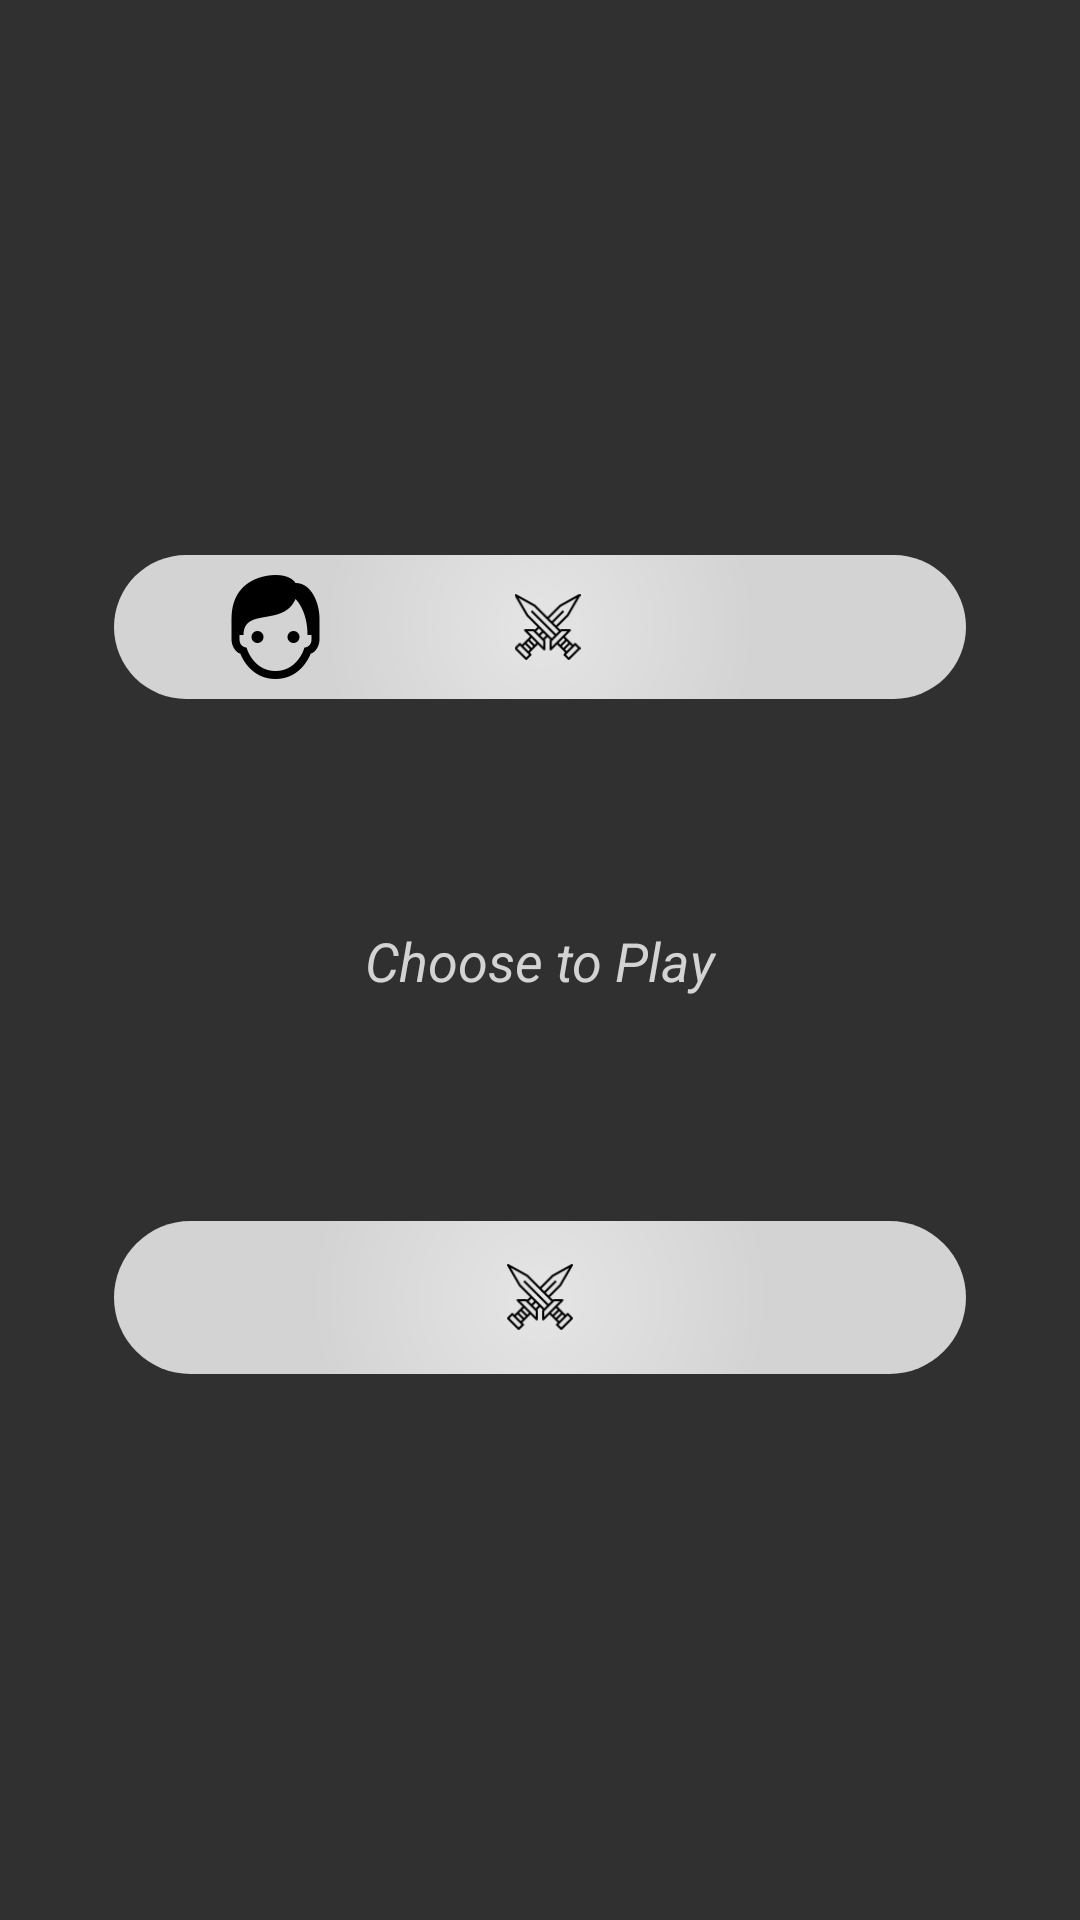

Point at icon controls on the screen. Image size 1080 x 1920, points as (x,y).
human: (275,627)
versus: (548,627), (540,1297)
